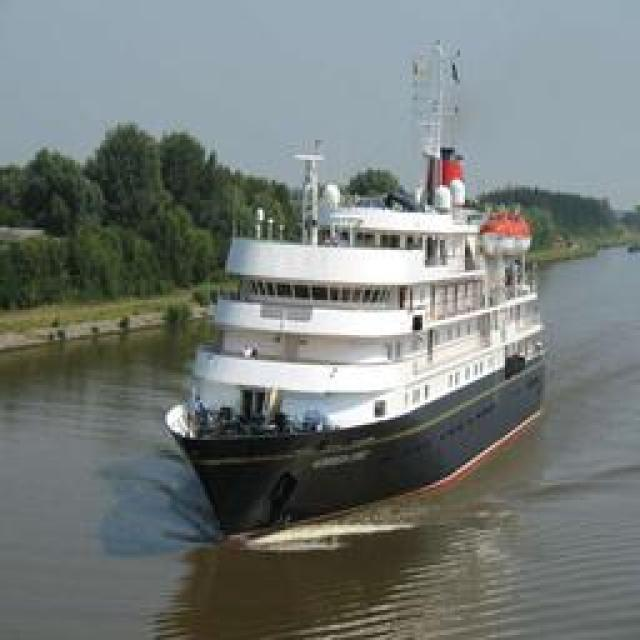CIV_Ship: (165, 100, 548, 540)
